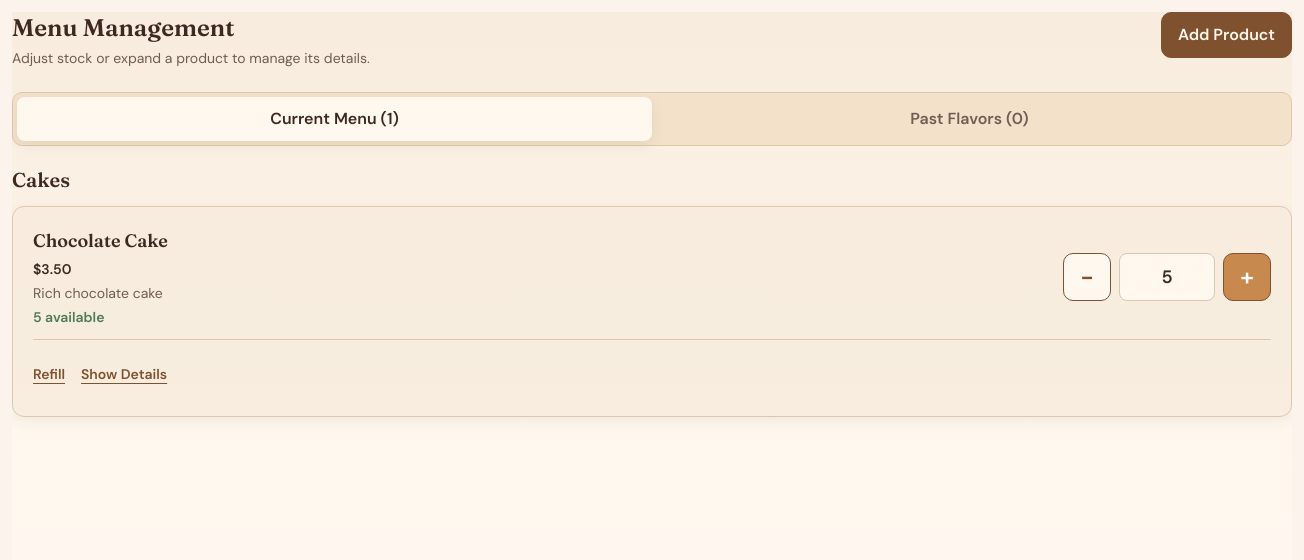
it: AdminMenu refill interaction › rejects invalid refill  without mutating
expect the heading "Chocolate Cake" is shown: met, box x1=33 y1=229 x2=168 y2=252
Click the button "Refill": (49, 374) x1=33 y1=352 x2=65 y2=396
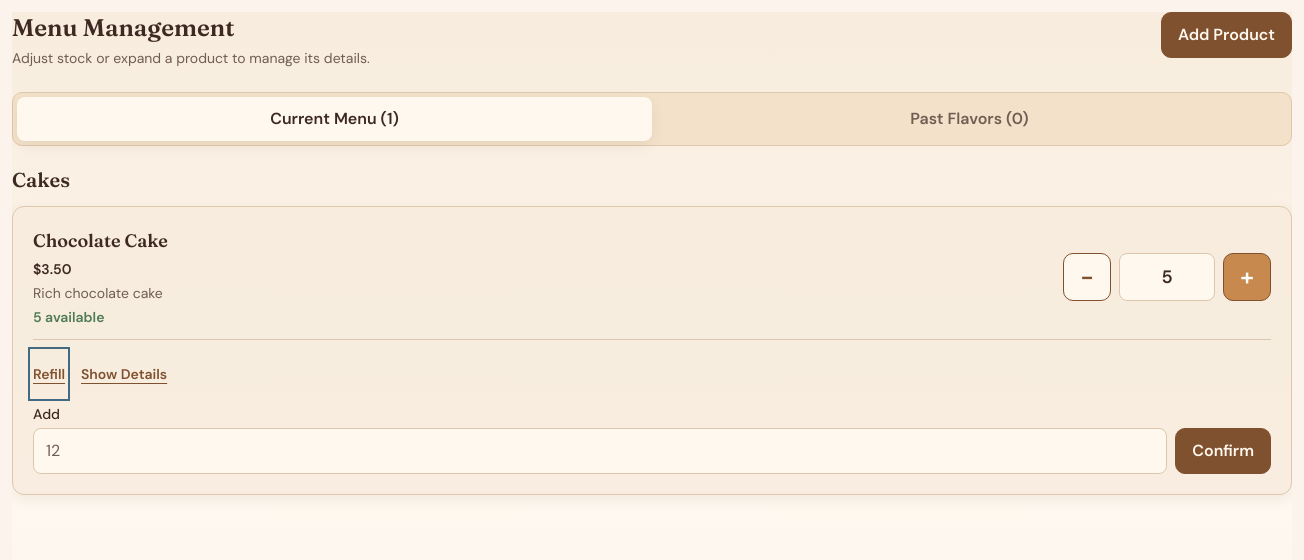
Click the button "Confirm": (1223, 451) x1=1175 y1=428 x2=1271 y2=474
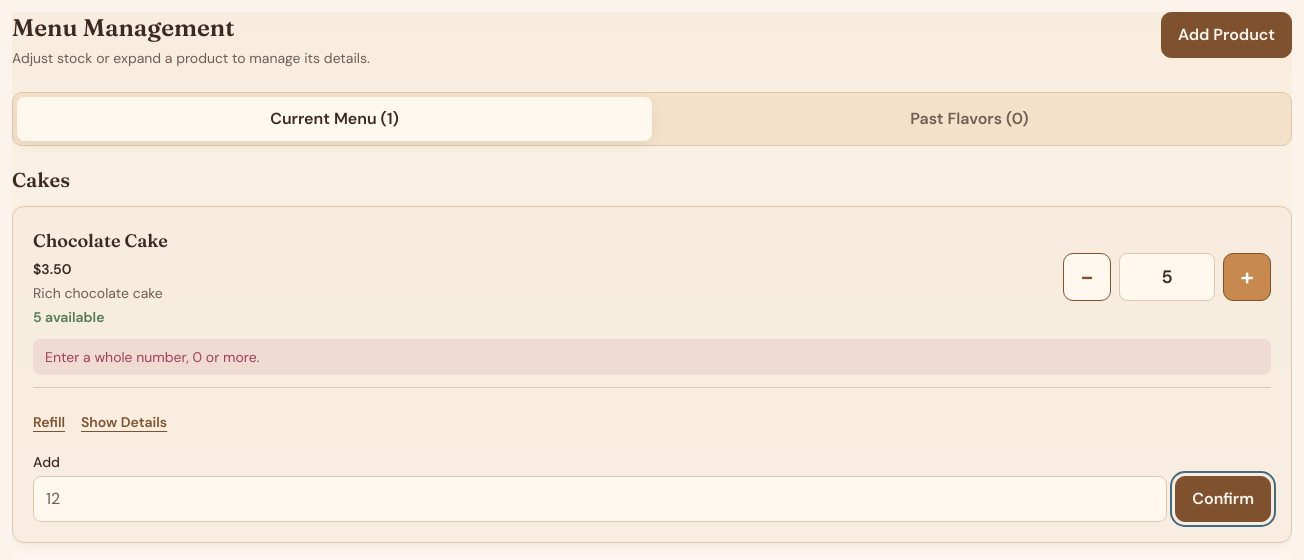
expect the message reads "Enter a whole number, 0 or more.": met, box x1=45 y1=348 x2=260 y2=366
